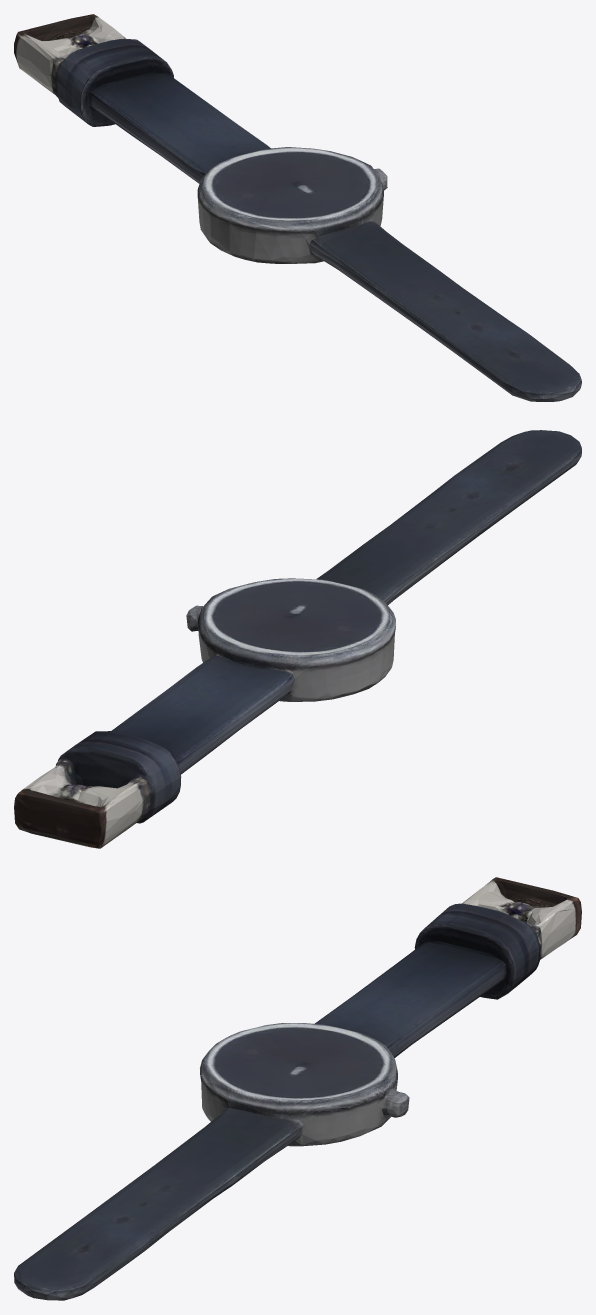
The picture shows the model from 3 angles, top to bottom: view 1: azimuth 30°, elevation 25°; view 2: azimuth 150°, elevation 25°; view 3: azimuth 330°, elevation 25°; orthographic projection. The views are drawn at different scales.
Parts seen in each view (by area): view 1: geometry_0; view 2: geometry_0; view 3: geometry_0.
Part boxes in pixels (x1,y1,x2,y2): geometry_0: (14,14,581,401); geometry_0: (14,430,581,848); geometry_0: (14,877,581,1300).
Bounding box in the file's own units: 0.2093 × 0.0705 × 1.
1 material, 1 textured.
